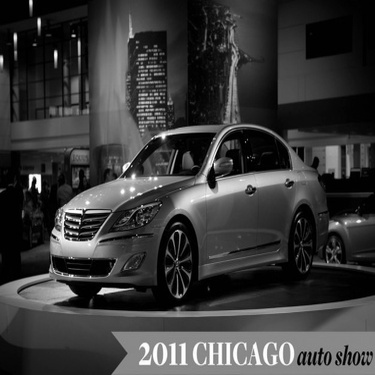car: (43, 122, 331, 304), (313, 190, 371, 271)
